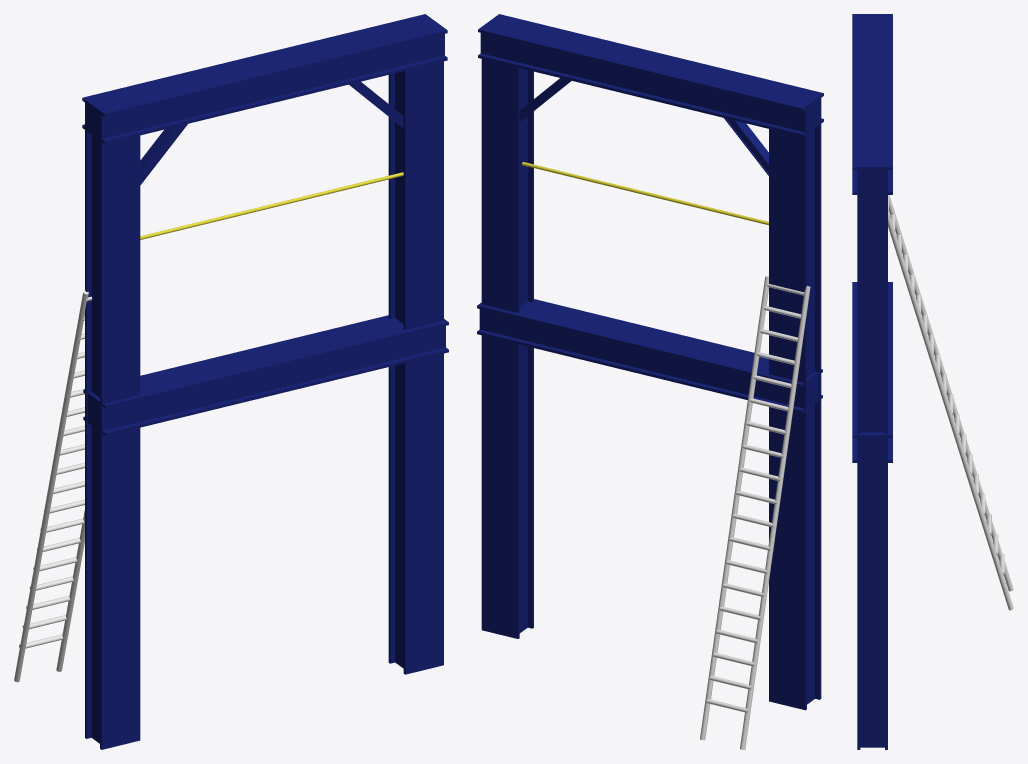
File: torre.fbx
3 views of the same model, side by side, from view 1: azimuth 30°, elevation 25°; view 2: azimuth 150°, elevation 25°; view 3: azimuth 270°, elevation 25° (orthographic). The views are drawn at different scales.
Visible parts, largest first — view 1: Cube, Cylinder, NurbsPath; view 2: Cube, Cylinder, NurbsPath; view 3: Cube, Cylinder.
Boxes of the visible parts, bbox=[...] form: Cube: bbox=[82, 14, 448, 749]; Cylinder: bbox=[14, 290, 92, 682]; NurbsPath: bbox=[140, 172, 403, 239]; Cube: bbox=[477, 14, 823, 710]; Cylinder: bbox=[700, 276, 810, 749]; NurbsPath: bbox=[522, 162, 768, 225]; Cube: bbox=[852, 14, 892, 749]; Cylinder: bbox=[888, 195, 1013, 610].
Size of the model in its own units: 1499 by 2628 by 659.
